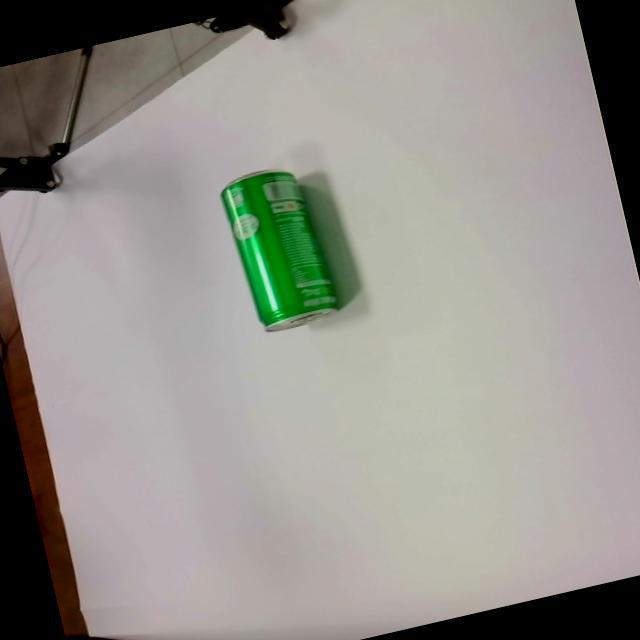debris: (214, 151, 368, 338)
